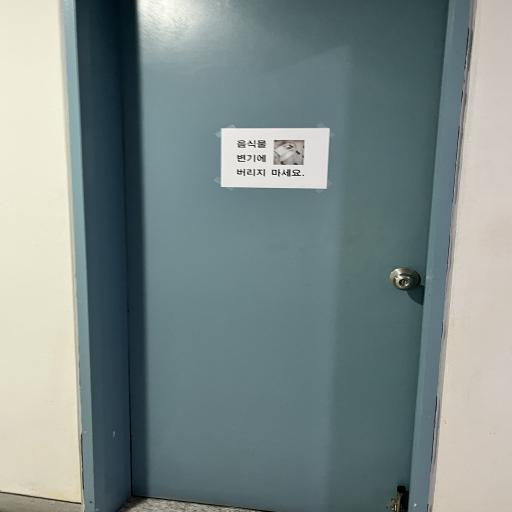door: (61, 2, 473, 512)
